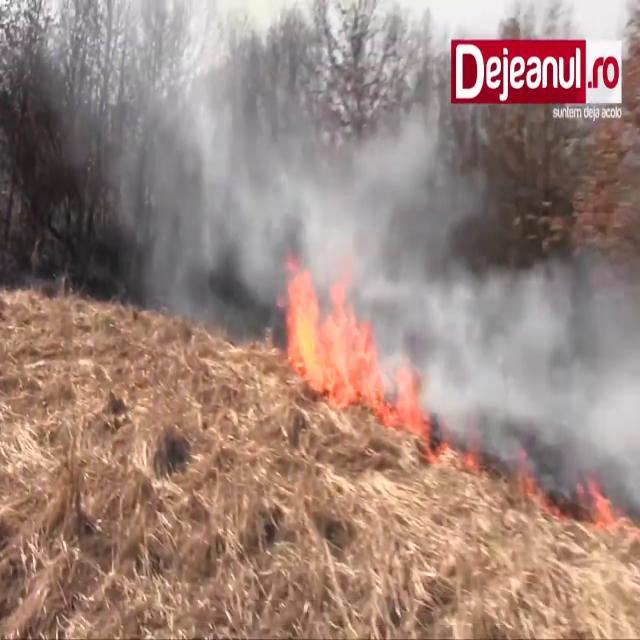Fire: (276, 250, 378, 410), (384, 351, 462, 468), (570, 468, 640, 546)
Smoke: (49, 5, 594, 336), (354, 50, 640, 542)
